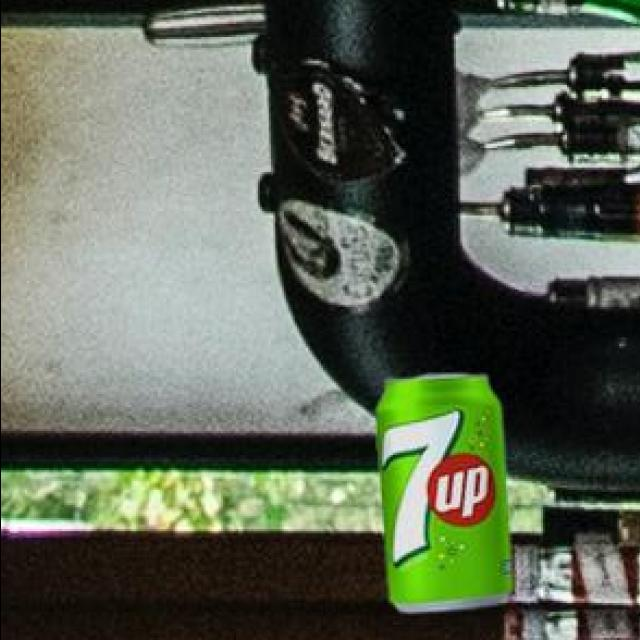logam: (373, 378, 508, 615)
